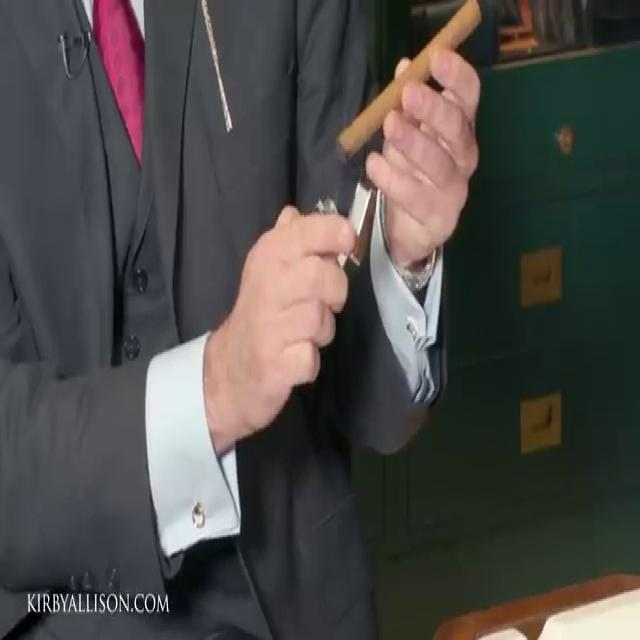Smooking: (326, 0, 494, 188)
